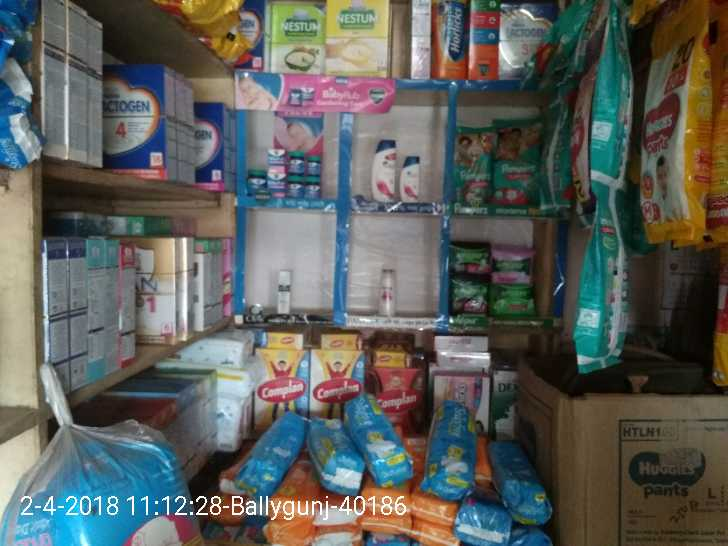vicks: (245, 145, 328, 201)
